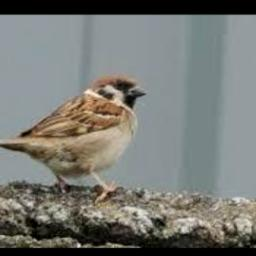Sparrow: (0, 76, 148, 200)
